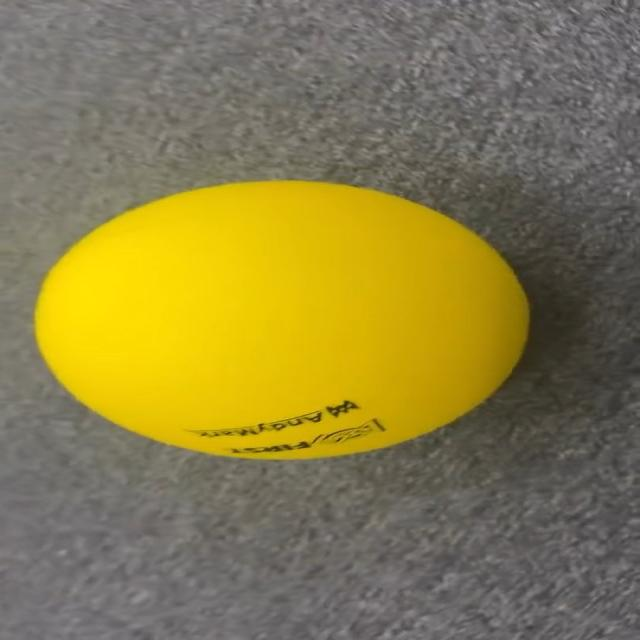Fuels: (36, 183, 532, 454)
